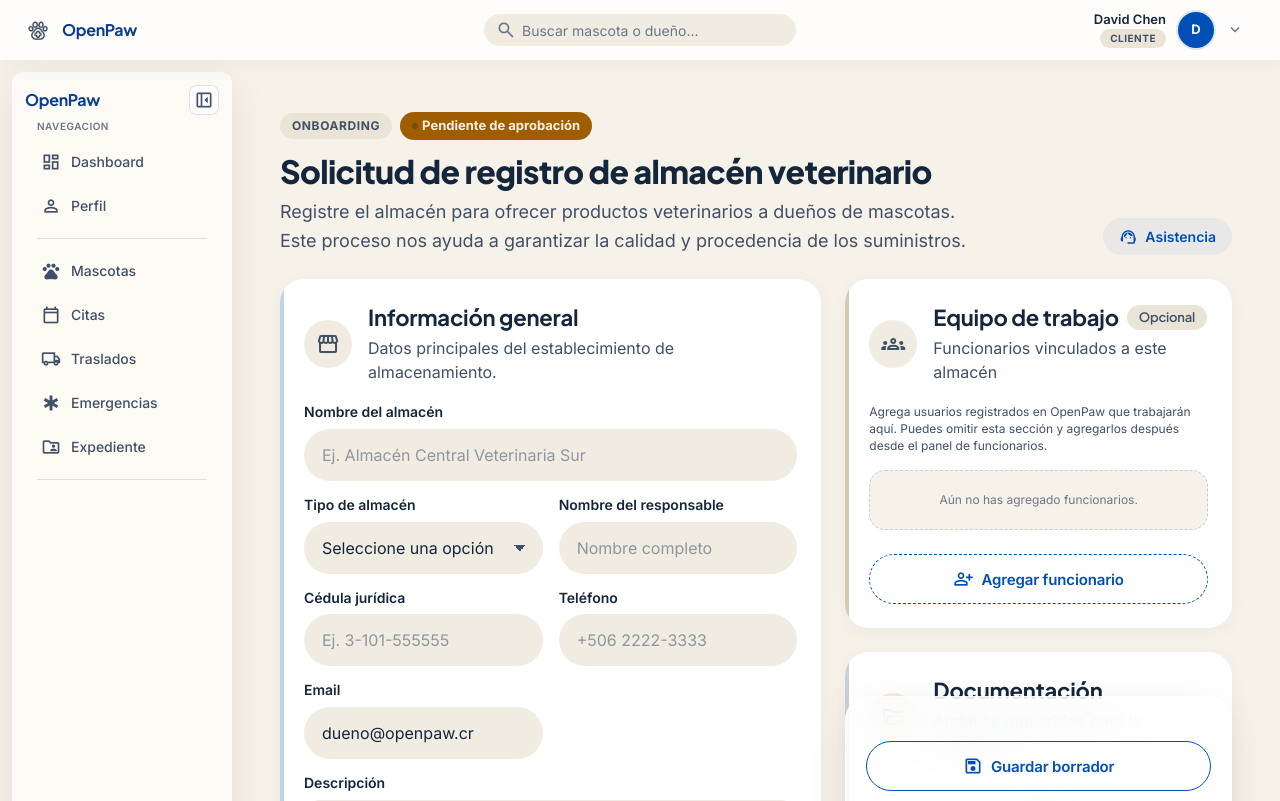
Test: StoreRegistrationPage (T38 — página única) › sección opcional de equipo: agrega y quita funcionarios
This screenshot has width=1280, height=801.
What coordinates should you click on to do the following:
click the button "Agregar funcionario"
I would click on:
 (1039, 580)
Its box is [869, 554, 1208, 604].
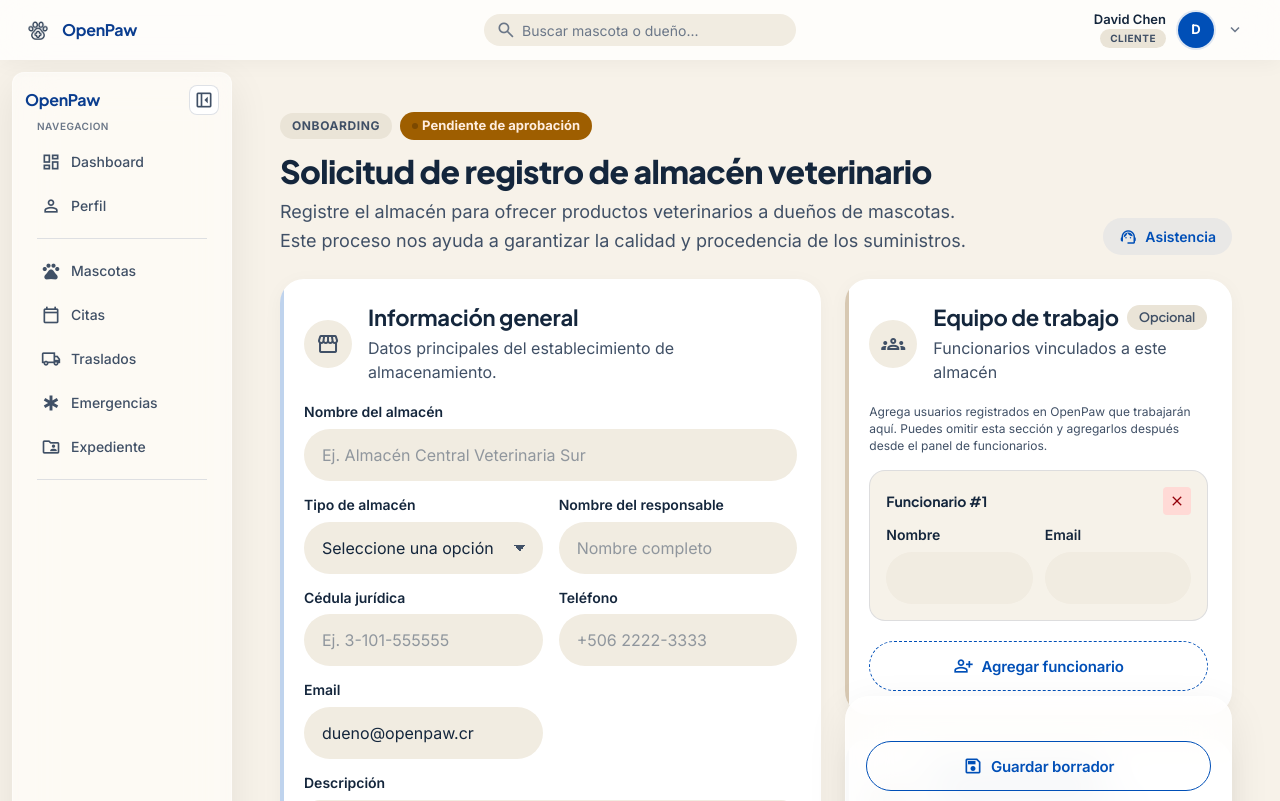
Expected: the text "Funcionario #1" is shown, [886, 491, 987, 512]
What coordinates should you click on to do the following:
click the button named "Quitar funcionario 1"
I would click on:
 (1177, 502)
Its box is [1163, 488, 1191, 516].
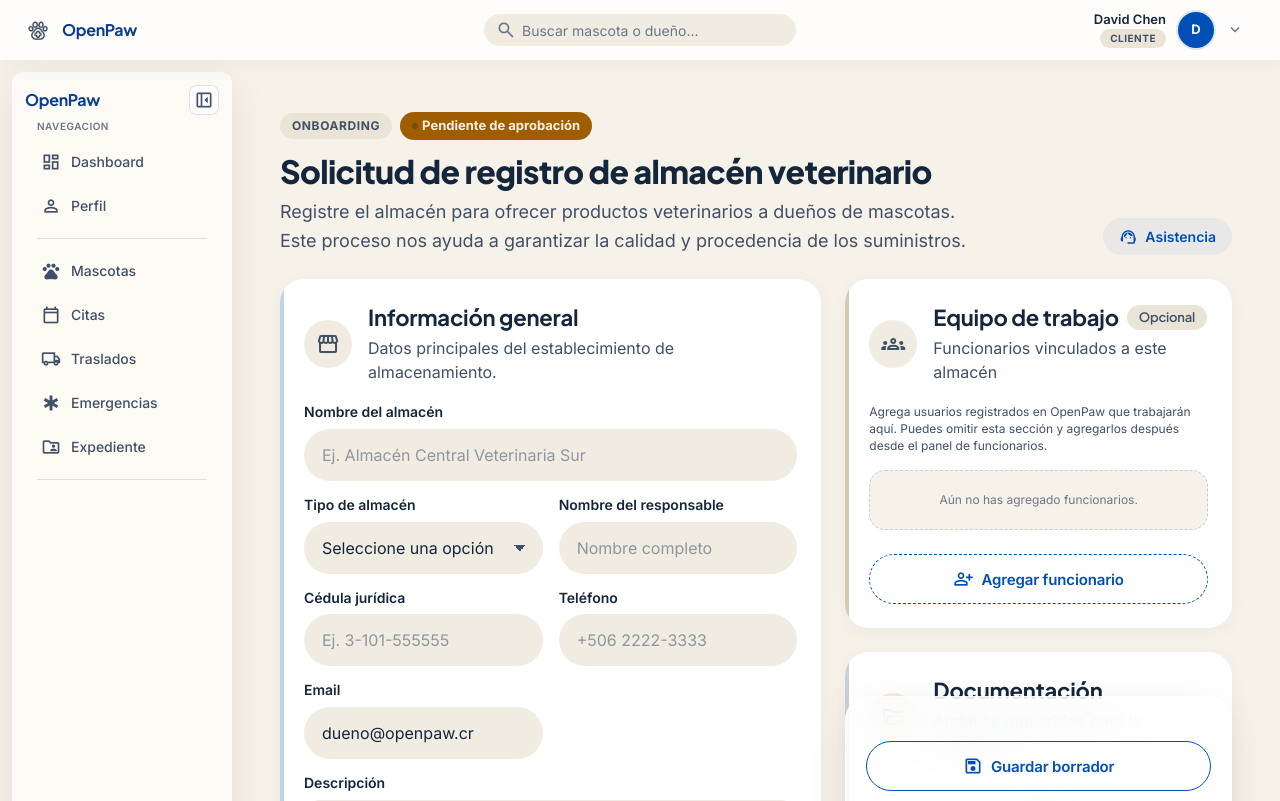
Expected: the text "Funcionario #1" is gone
